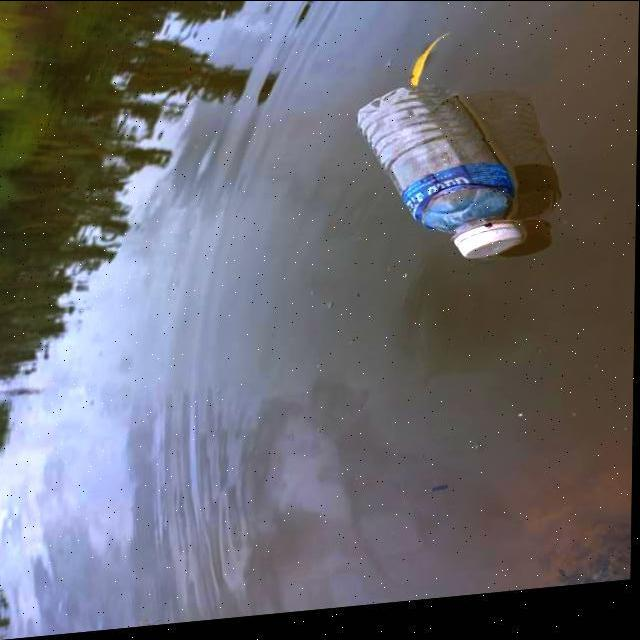Bottle: (350, 82, 527, 264)
